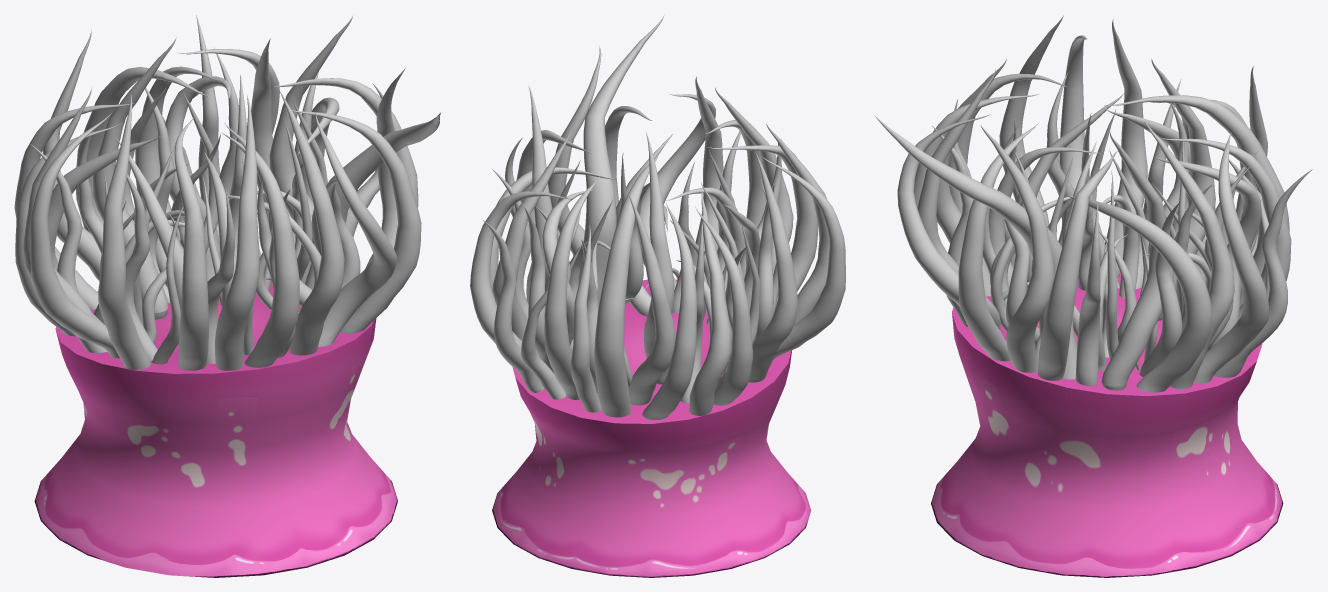
File: Anemone.FBX
3 renders of one model, left to right at view 1: azimuth 30°, elevation 25°; view 2: azimuth 150°, elevation 25°; view 3: azimuth 270°, elevation 25°, orthographic. The views are drawn at different scales.
Visible parts, largest first — view 1: uv cv011, 실험용; view 2: uv cv011, 실험용; view 3: uv cv011, 실험용.
Part boxes in pixels (bbox=[...]): uv cv011: bbox=[14, 15, 441, 370]; 실험용: bbox=[34, 281, 397, 577]; uv cv011: bbox=[470, 15, 845, 419]; 실험용: bbox=[492, 279, 811, 577]; uv cv011: bbox=[874, 15, 1312, 392]; 실험용: bbox=[931, 273, 1283, 577].
Bounding box in the file's own units: 119 × 136 × 123.
